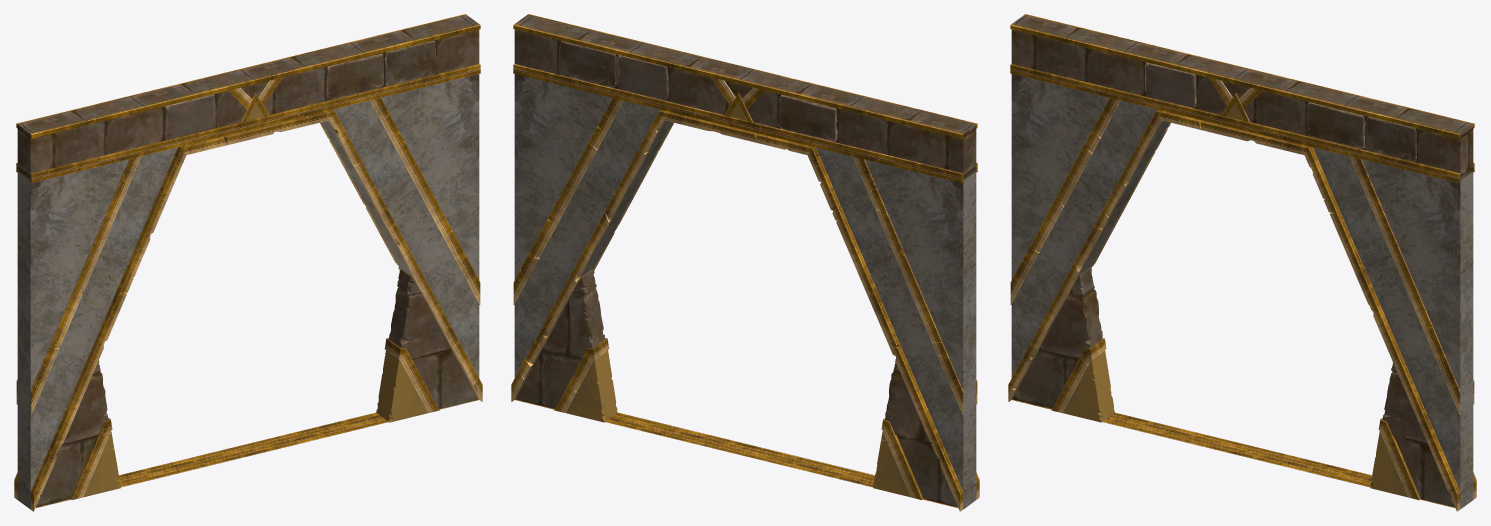
The picture shows the model from 3 angles, left to right: view 1: azimuth 30°, elevation 25°; view 2: azimuth 150°, elevation 25°; view 3: azimuth 330°, elevation 25°; orthographic projection.
Visible parts, largest first — view 1: SM_Vault_8m_Door_Frame_01_LOD0; view 2: SM_Vault_8m_Door_Frame_01_LOD0; view 3: SM_Vault_8m_Door_Frame_01_LOD0.
Part boxes in pixels (x1=…): SM_Vault_8m_Door_Frame_01_LOD0: x1=14, y1=14, x2=482, y2=511; SM_Vault_8m_Door_Frame_01_LOD0: x1=511, y1=14, x2=979, y2=511; SM_Vault_8m_Door_Frame_01_LOD0: x1=1008, y1=14, x2=1476, y2=511.
Size of the model in its own units: 10 by 8.02 by 0.7599.
4 materials, 4 textured.
